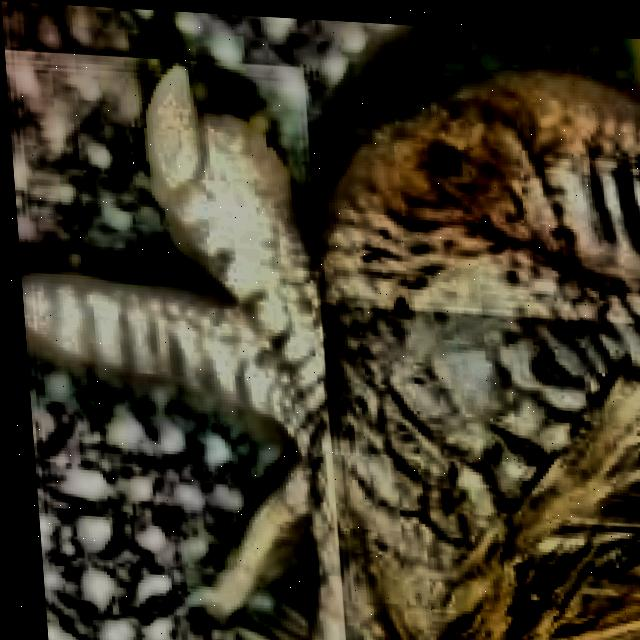Bumble foot: (2, 40, 640, 640)
